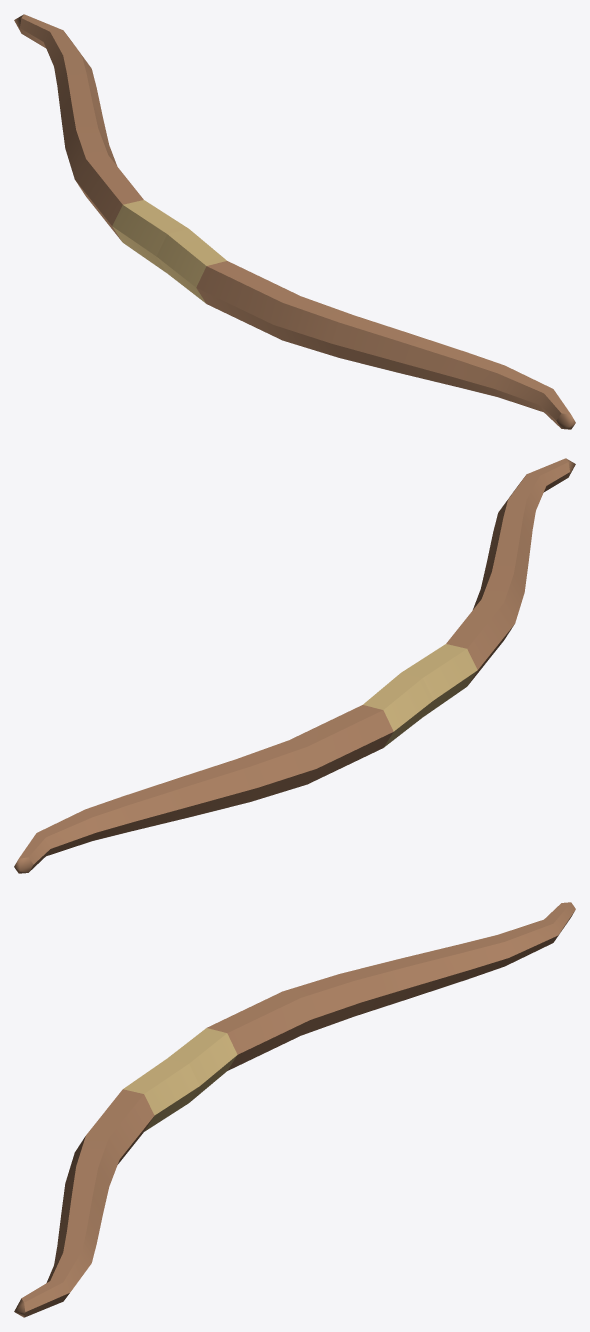
File: ranger_bow.fbx
The picture shows the model from 3 angles, top to bottom: view 1: azimuth 30°, elevation 25°; view 2: azimuth 150°, elevation 25°; view 3: azimuth 330°, elevation 25°; orthographic projection.
Parts seen in each view (by area): view 1: ranger_bow; view 2: ranger_bow; view 3: ranger_bow.
Boxes of the visible parts, bbox=[...] form: ranger_bow: bbox=[14, 14, 575, 429]; ranger_bow: bbox=[14, 458, 575, 873]; ranger_bow: bbox=[14, 902, 575, 1317].
Bounding box in the file's own units: 0.1644 × 0.0387 × 0.9882.
